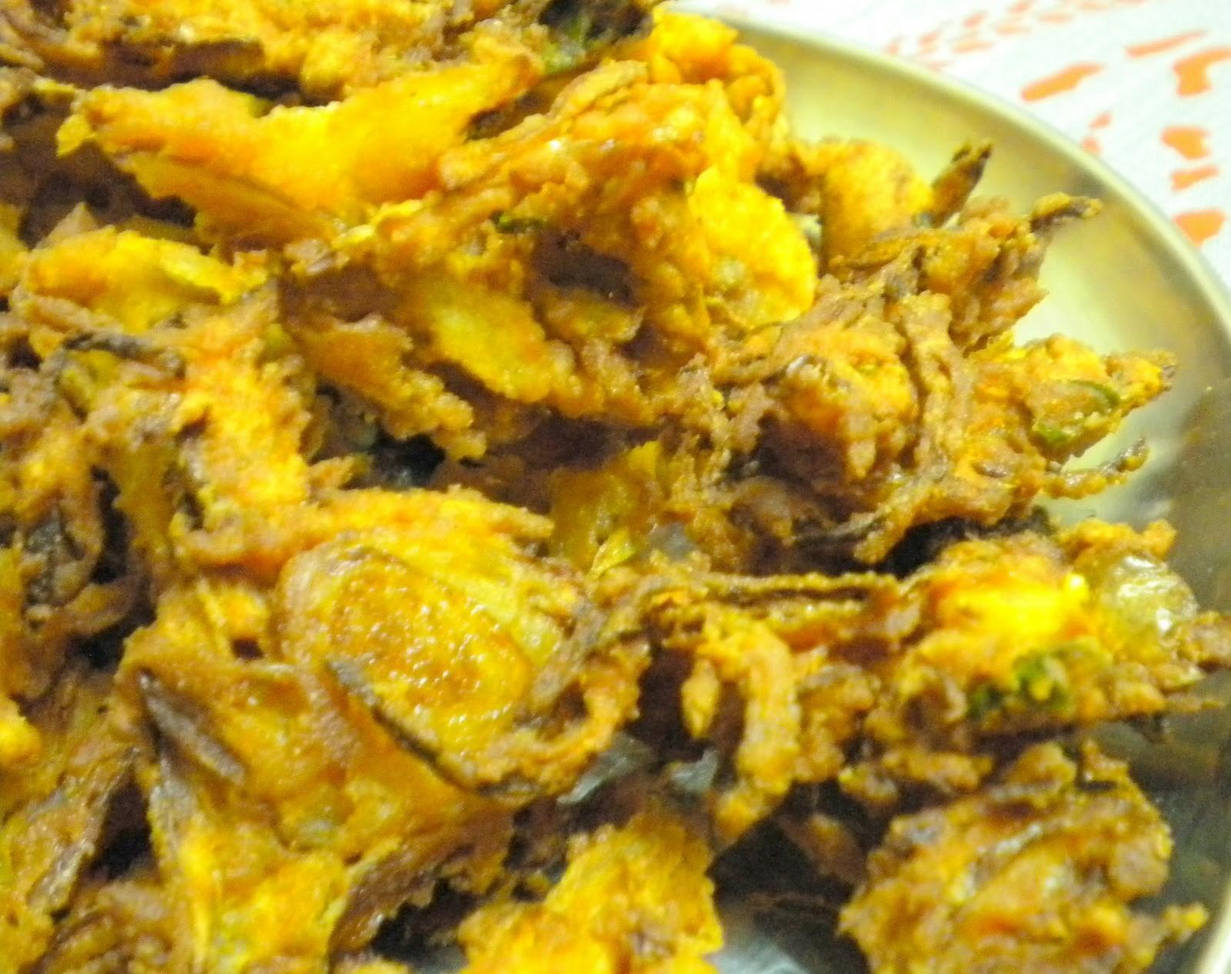OnionPakoda: (1, 0, 1231, 973)
